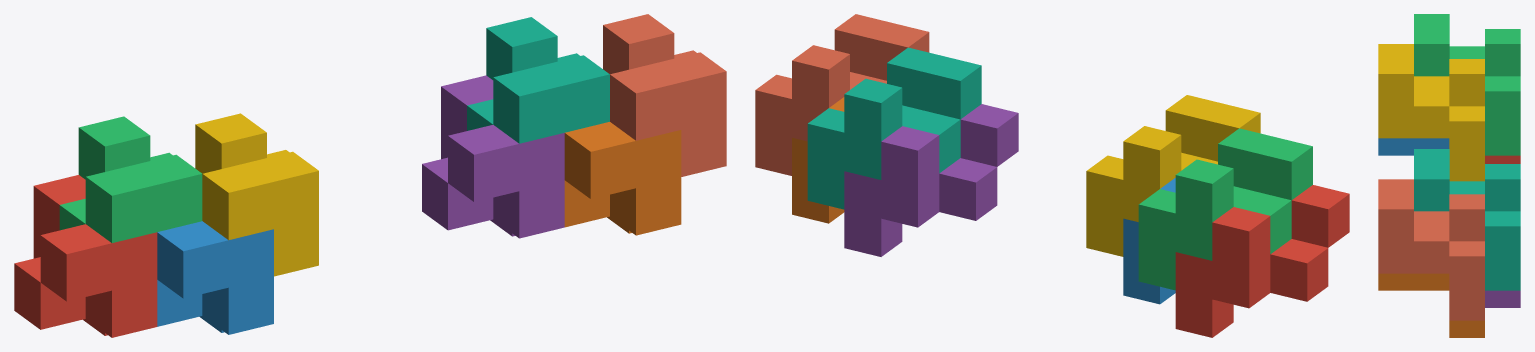
File: tiling.obj
The picture shows the model from 3 angles, left to right: view 1: azimuth 30°, elevation 25°; view 2: azimuth 150°, elevation 25°; view 3: azimuth 270°, elevation 25°; orthographic projection. The views are drawn at different scales.
Visible parts, largest first — view 1: copy_1_domain_1, copy_1_domain_5, copy_1_domain_8, copy_1_domain_4, copy_1_domain_3, copy_1_domain_7, copy_1_domain_6, copy_1_domain_2; view 2: copy_1_domain_1, copy_1_domain_5, copy_1_domain_3, copy_1_domain_7, copy_1_domain_4, copy_1_domain_8, copy_1_domain_2, copy_1_domain_6; view 3: copy_1_domain_8, copy_1_domain_4, copy_1_domain_7, copy_1_domain_3, copy_1_domain_6, copy_1_domain_2, copy_1_domain_5, copy_1_domain_1.
Boxes of the visible parts, x1,y1,x2,y2 form: copy_1_domain_1: (14, 175, 157, 337); copy_1_domain_5: (422, 75, 564, 238); copy_1_domain_8: (603, 14, 726, 176); copy_1_domain_4: (195, 113, 318, 276); copy_1_domain_3: (59, 116, 202, 242); copy_1_domain_7: (467, 17, 609, 143); copy_1_domain_6: (564, 122, 681, 235); copy_1_domain_2: (157, 221, 273, 334); copy_1_domain_1: (1175, 185, 1349, 337); copy_1_domain_5: (844, 104, 1018, 256); copy_1_domain_3: (1138, 128, 1312, 290); copy_1_domain_7: (807, 47, 981, 209); copy_1_domain_4: (1086, 95, 1260, 256); copy_1_domain_8: (755, 14, 929, 175); copy_1_domain_2: (1123, 178, 1175, 304); copy_1_domain_6: (792, 97, 844, 223); copy_1_domain_8: (1378, 179, 1484, 320); copy_1_domain_4: (1378, 44, 1484, 181); copy_1_domain_7: (1414, 149, 1520, 290); copy_1_domain_3: (1414, 14, 1520, 155); copy_1_domain_6: (1378, 273, 1484, 337); copy_1_domain_2: (1378, 138, 1449, 155); copy_1_domain_5: (1485, 290, 1520, 307); copy_1_domain_1: (1485, 155, 1520, 163).
Size of the model in its own units: 15 by 4 by 4.
